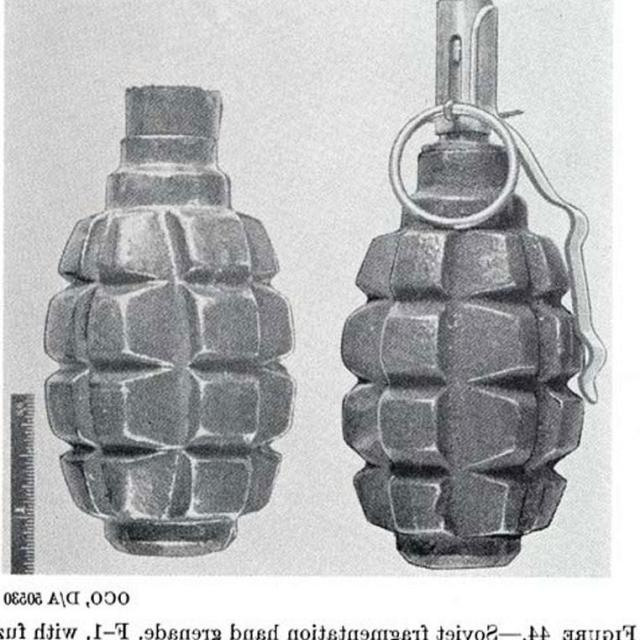grenade: (341, 1, 609, 571), (43, 86, 299, 559)
